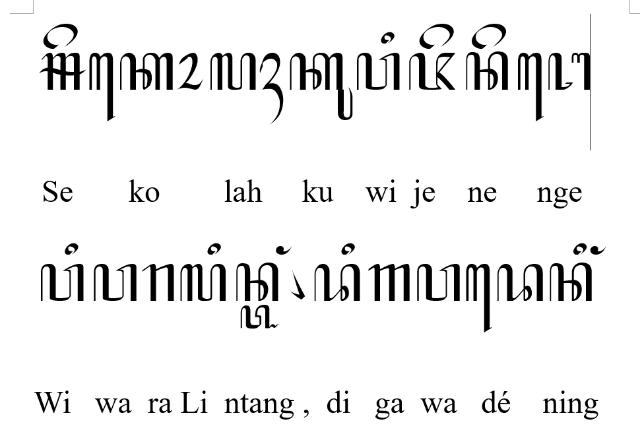S: (38, 53, 86, 90)
_t: (240, 304, 280, 330)
d: (496, 262, 544, 301), (314, 263, 361, 301)
e: (42, 23, 78, 49), (419, 23, 453, 49), (472, 23, 506, 49)
e1: (88, 52, 115, 122), (518, 52, 544, 122), (466, 263, 492, 333)
g: (368, 264, 410, 302)
i: (64, 243, 78, 255), (341, 243, 355, 255), (573, 243, 587, 255), (382, 32, 394, 44), (208, 243, 220, 255)
j: (408, 52, 456, 90)
k: (118, 52, 172, 90)
kom: (290, 270, 304, 300)
ku: (289, 52, 353, 121)
l: (209, 53, 257, 89), (260, 52, 284, 124), (180, 264, 226, 301)
n: (548, 262, 592, 301), (466, 52, 508, 90), (236, 263, 278, 301)
ng: (590, 246, 606, 255), (276, 246, 292, 254)
nga: (547, 52, 591, 90)
o: (177, 52, 203, 91)
r: (142, 263, 174, 301)
w: (357, 52, 401, 90), (93, 264, 137, 302), (417, 263, 461, 301), (40, 264, 84, 300)
